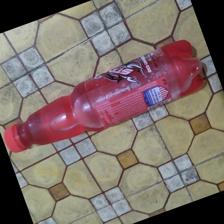Sting: (1, 41, 207, 154)
